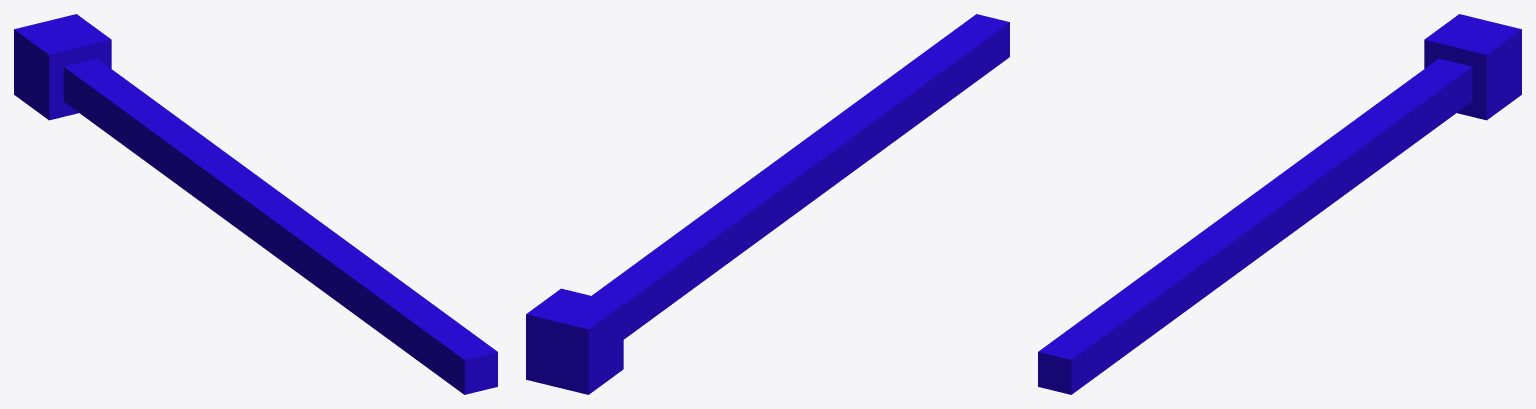
3 renders of one model, left to right at view 1: azimuth 30°, elevation 25°; view 2: azimuth 150°, elevation 25°; view 3: azimuth 330°, elevation 25°, orthographic.
Visible parts, largest first — view 1: Cube.004; view 2: Cube.004; view 3: Cube.004.
Boxes of the visible parts, x1=… form: Cube.004: x1=14, y1=14, x2=497, y2=394; Cube.004: x1=526, y1=14, x2=1009, y2=394; Cube.004: x1=1038, y1=14, x2=1521, y2=394.
Bounding box in the file's own units: 0.1848 × 0.1848 × 2.23.
